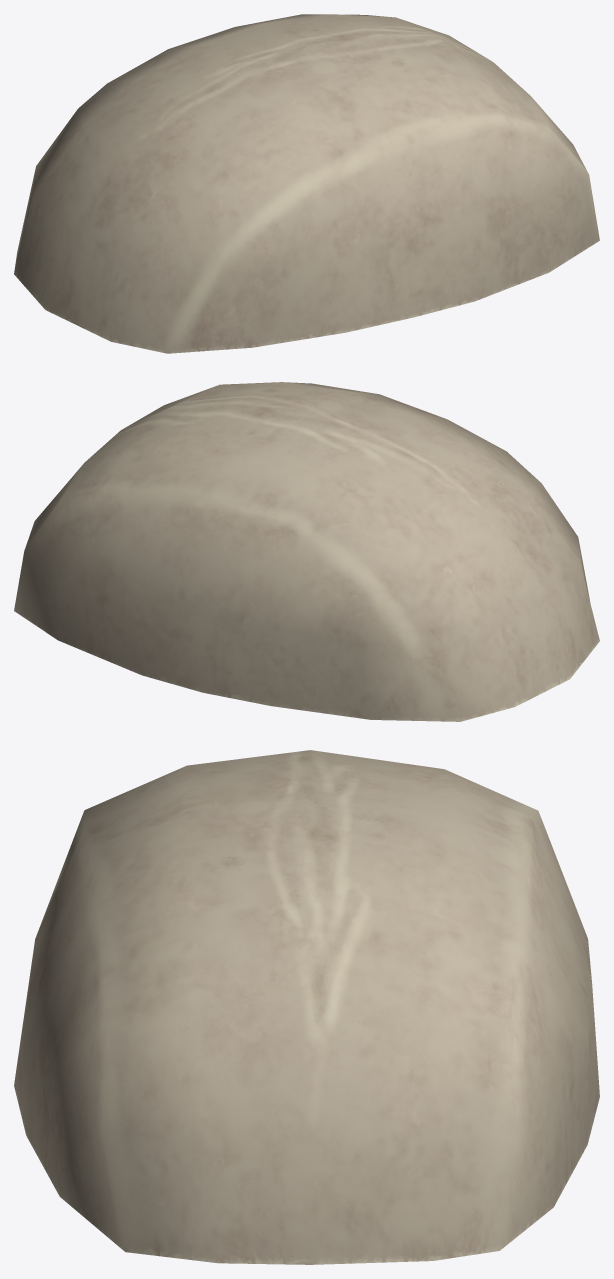
File: mantou.FBX
The picture shows the model from 3 angles, top to bottom: view 1: azimuth 30°, elevation 25°; view 2: azimuth 150°, elevation 25°; view 3: azimuth 270°, elevation 25°; orthographic projection. The views are drawn at different scales.
Parts seen in each view (by area): view 1: Box002; view 2: Box002; view 3: Box002.
Part boxes in pixels (<box>): Box002: <box>14,14,599,353</box>; Box002: <box>14,382,599,721</box>; Box002: <box>14,750,599,1264</box>.
Size of the model in its own units: 28.34 by 11.63 by 19.57.
Materials: 1 (1 with a texture image).
